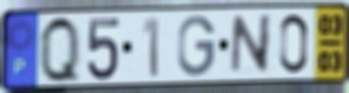0: (278, 12, 309, 75)
1: (141, 14, 162, 79)
5: (85, 15, 122, 82)
G: (176, 14, 218, 79)
N: (228, 12, 274, 78)
Q: (37, 13, 83, 86)
